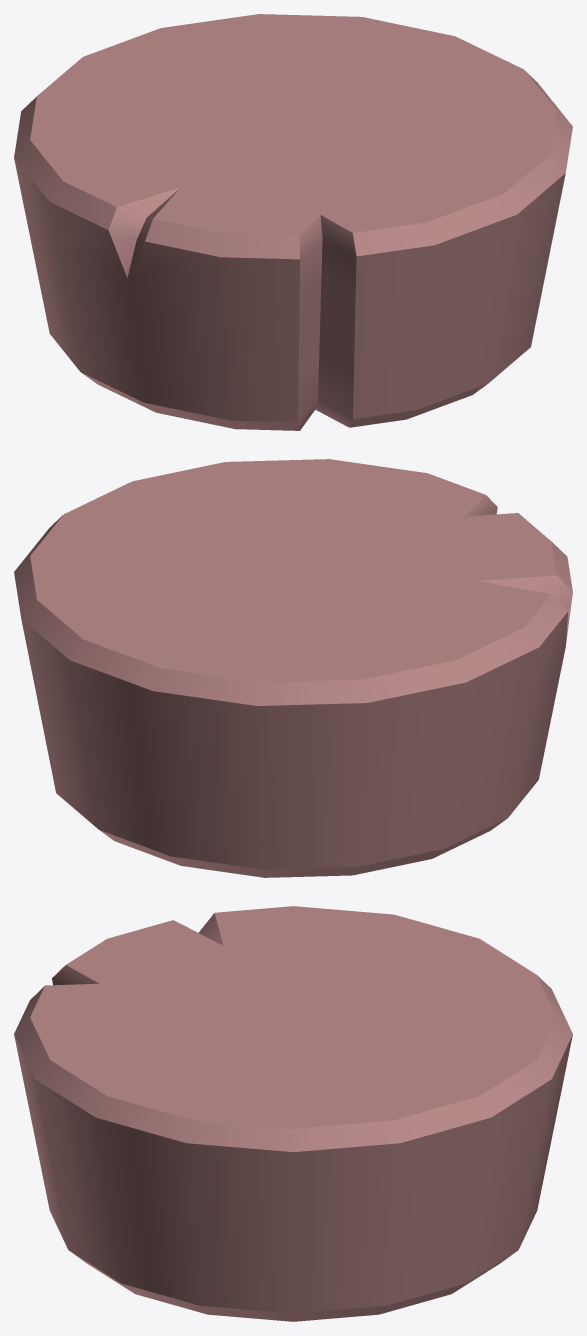
Rendered from Red1.fbx.
3 renders of one model, top to bottom at view 1: azimuth 30°, elevation 25°; view 2: azimuth 150°, elevation 25°; view 3: azimuth 270°, elevation 25°, orthographic.
Parts seen in each view (by area): view 1: circle; view 2: circle; view 3: circle.
Boxes of the visible parts, left/top/right/bottom form: circle: left=14, top=14, right=572, bottom=430; circle: left=14, top=459, right=572, bottom=877; circle: left=14, top=906, right=572, bottom=1321.
Bounding box in the file's own units: 1.98 × 0.8207 × 1.98.
